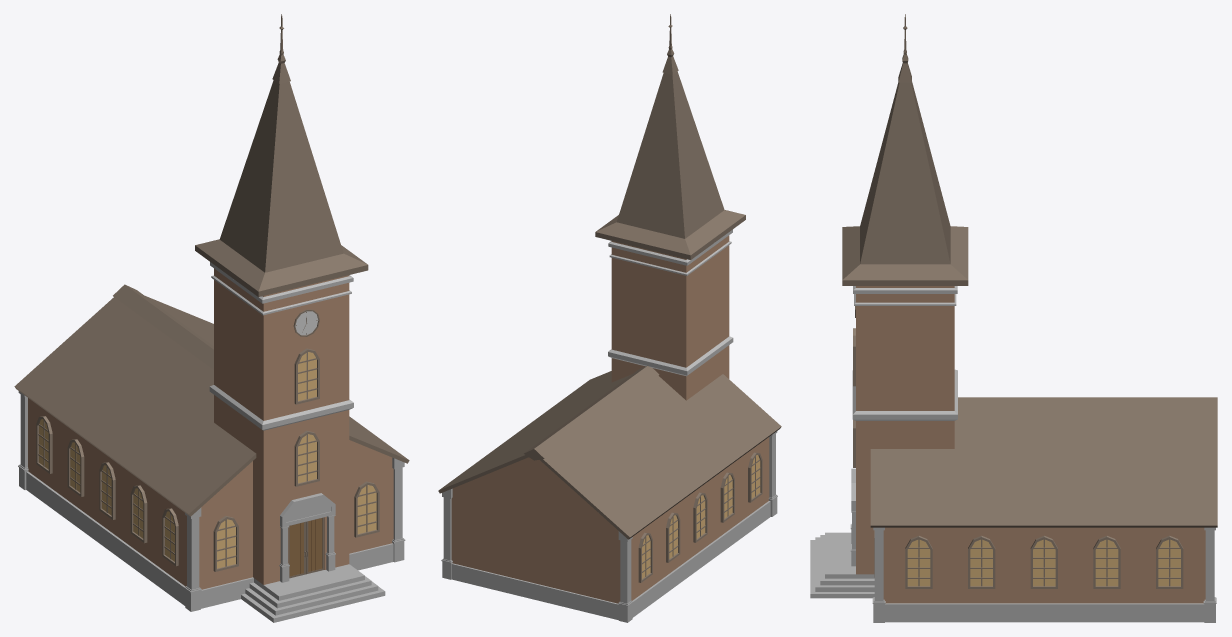
File: Church_01.fbx
The picture shows the model from 3 angles, left to right: view 1: azimuth 30°, elevation 25°; view 2: azimuth 150°, elevation 25°; view 3: azimuth 270°, elevation 25°; orthographic projection. The views are drawn at different scales.
Parts seen in each view (by area): view 1: Church_01; view 2: Church_01; view 3: Church_01.
Boxes of the visible parts, box(x1,y1,x2,y2) form: Church_01: box(14, 14, 409, 622); Church_01: box(438, 14, 781, 622); Church_01: box(810, 14, 1217, 622).
Bounding box in the file's own units: 1287 × 3122 × 2068.
